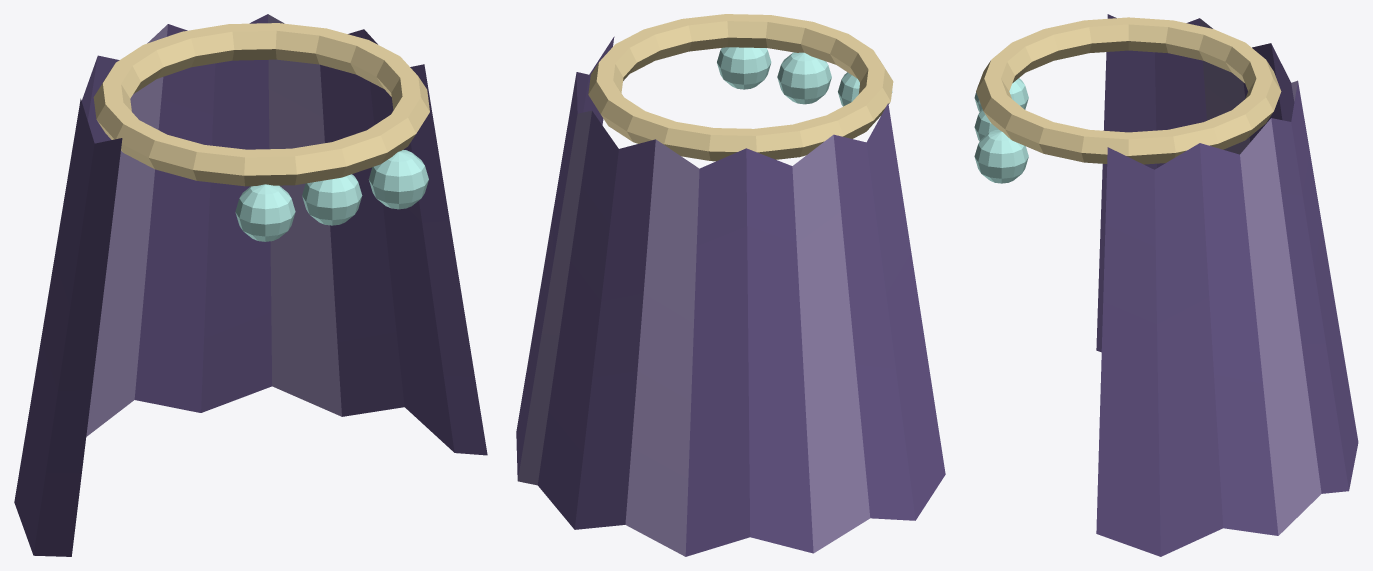
Rendered from cloak-3.glb.
The picture shows the model from 3 angles, left to right: view 1: azimuth 30°, elevation 25°; view 2: azimuth 150°, elevation 25°; view 3: azimuth 270°, elevation 25°; orthographic projection. The views are drawn at different scales.
Parts seen in each view (by area): view 1: Moonweave cape tier 3, Gold collar.002, Moon clasp.003, Moon clasp.005, Moon clasp.004; view 2: Moonweave cape tier 3, Gold collar.002, Moon clasp.004, Moon clasp.005, Moon clasp.003; view 3: Moonweave cape tier 3, Gold collar.002, Moon clasp.005, Moon clasp.003.
Boxes of the visible parts, x1,y1,x2,y2 form: Moonweave cape tier 3: [14, 14, 487, 556]; Gold collar.002: [93, 23, 429, 186]; Moon clasp.003: [235, 184, 295, 241]; Moon clasp.005: [368, 150, 428, 209]; Moon clasp.004: [302, 174, 362, 225]; Moonweave cape tier 3: [516, 36, 945, 556]; Gold collar.002: [588, 14, 893, 161]; Moon clasp.004: [777, 52, 831, 104]; Moon clasp.005: [717, 47, 771, 89]; Moon clasp.003: [838, 72, 892, 106]; Moonweave cape tier 3: [1096, 14, 1358, 556]; Gold collar.002: [976, 17, 1281, 164]; Moon clasp.005: [974, 129, 1028, 183]; Moon clasp.003: [974, 78, 1028, 111].
Size of the model in its own units: 1.45 by 1.41 by 1.27.
